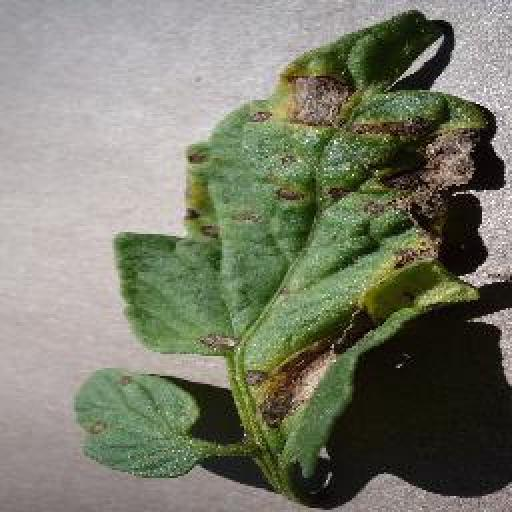disease_tomato: (114, 11, 491, 473)
